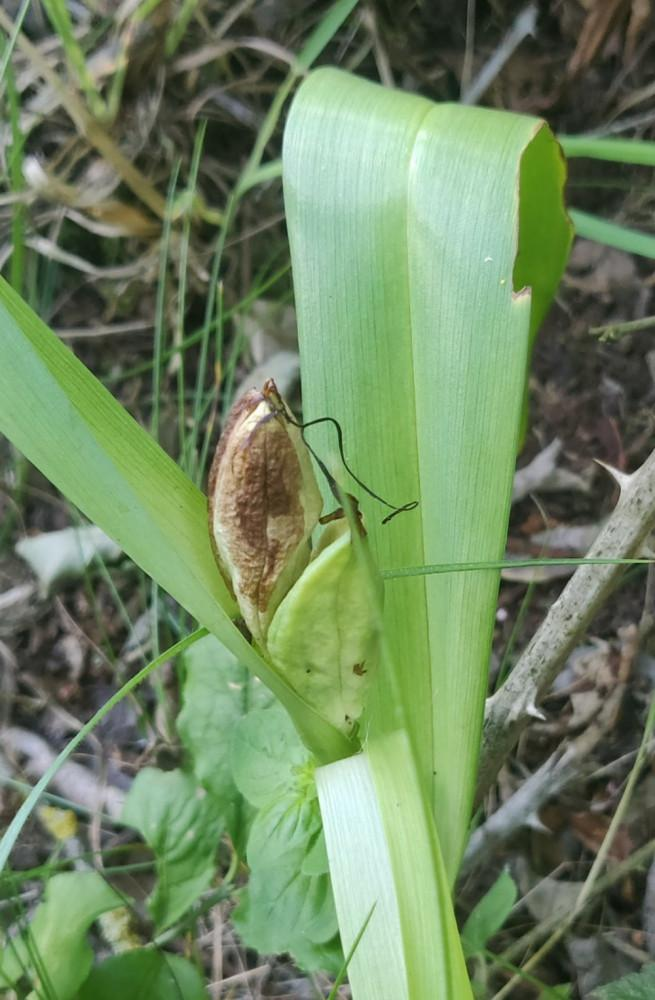Colchicum autumnale L: (0, 147, 631, 979)
